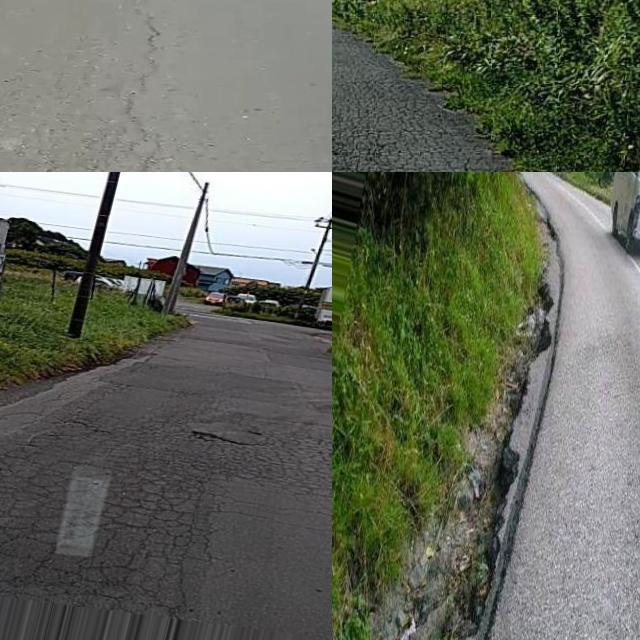Pinggir: (412, 203, 594, 640)
Retak Buaya: (0, 425, 222, 622), (332, 80, 515, 172)
